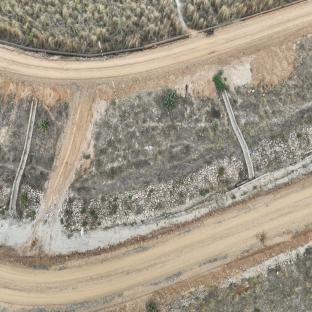rock_toe: (58, 151, 246, 231), (251, 119, 312, 176), (17, 184, 43, 220)
slope_drain: (8, 97, 38, 217), (221, 90, 255, 179)
toe_drain: (128, 149, 312, 228)
